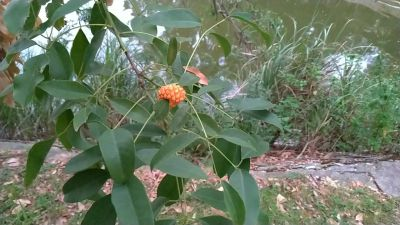eggs: (159, 76, 189, 106)
